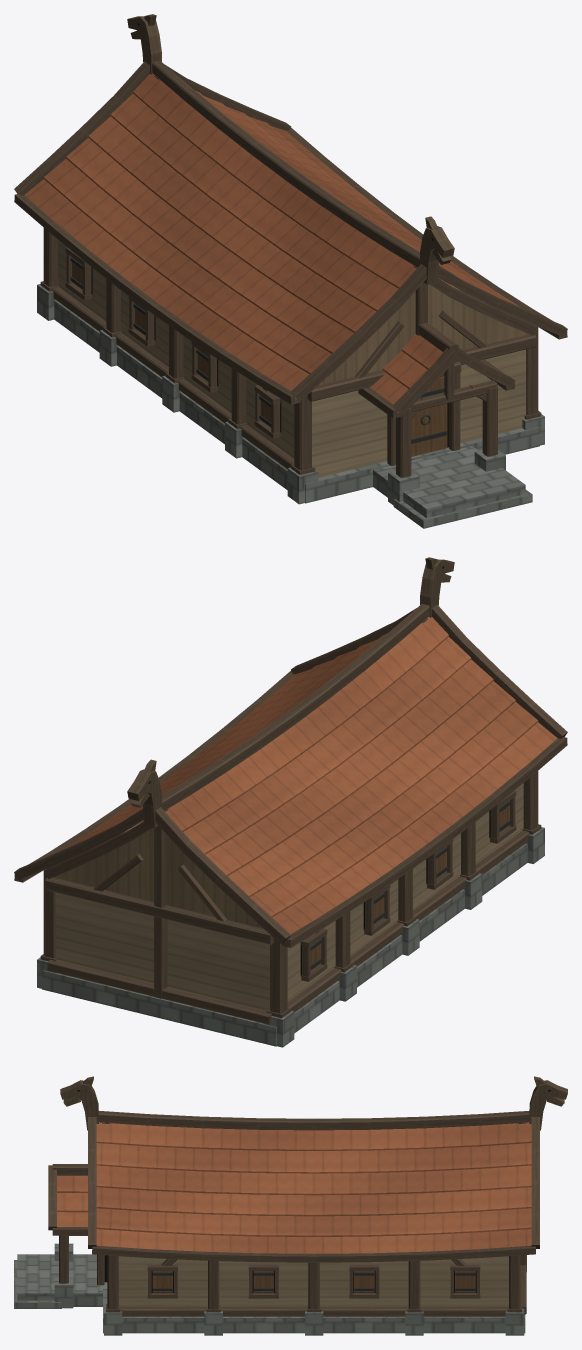
File: longhouse.glb
3 renders of one model, top to bottom at view 1: azimuth 30°, elevation 25°; view 2: azimuth 150°, elevation 25°; view 3: azimuth 270°, elevation 25°, orthographic. The views are drawn at different scales.
Visible parts, largest first — view 1: Longhouse; view 2: Longhouse; view 3: Longhouse.
Boxes of the visible parts, bbox=[...] form: Longhouse: bbox=[14, 14, 567, 528]; Longhouse: bbox=[14, 557, 567, 1047]; Longhouse: bbox=[14, 1076, 567, 1335].
Size of the model in its own units: 0.747 by 0.677 by 1.62.
1 material, 1 textured.
